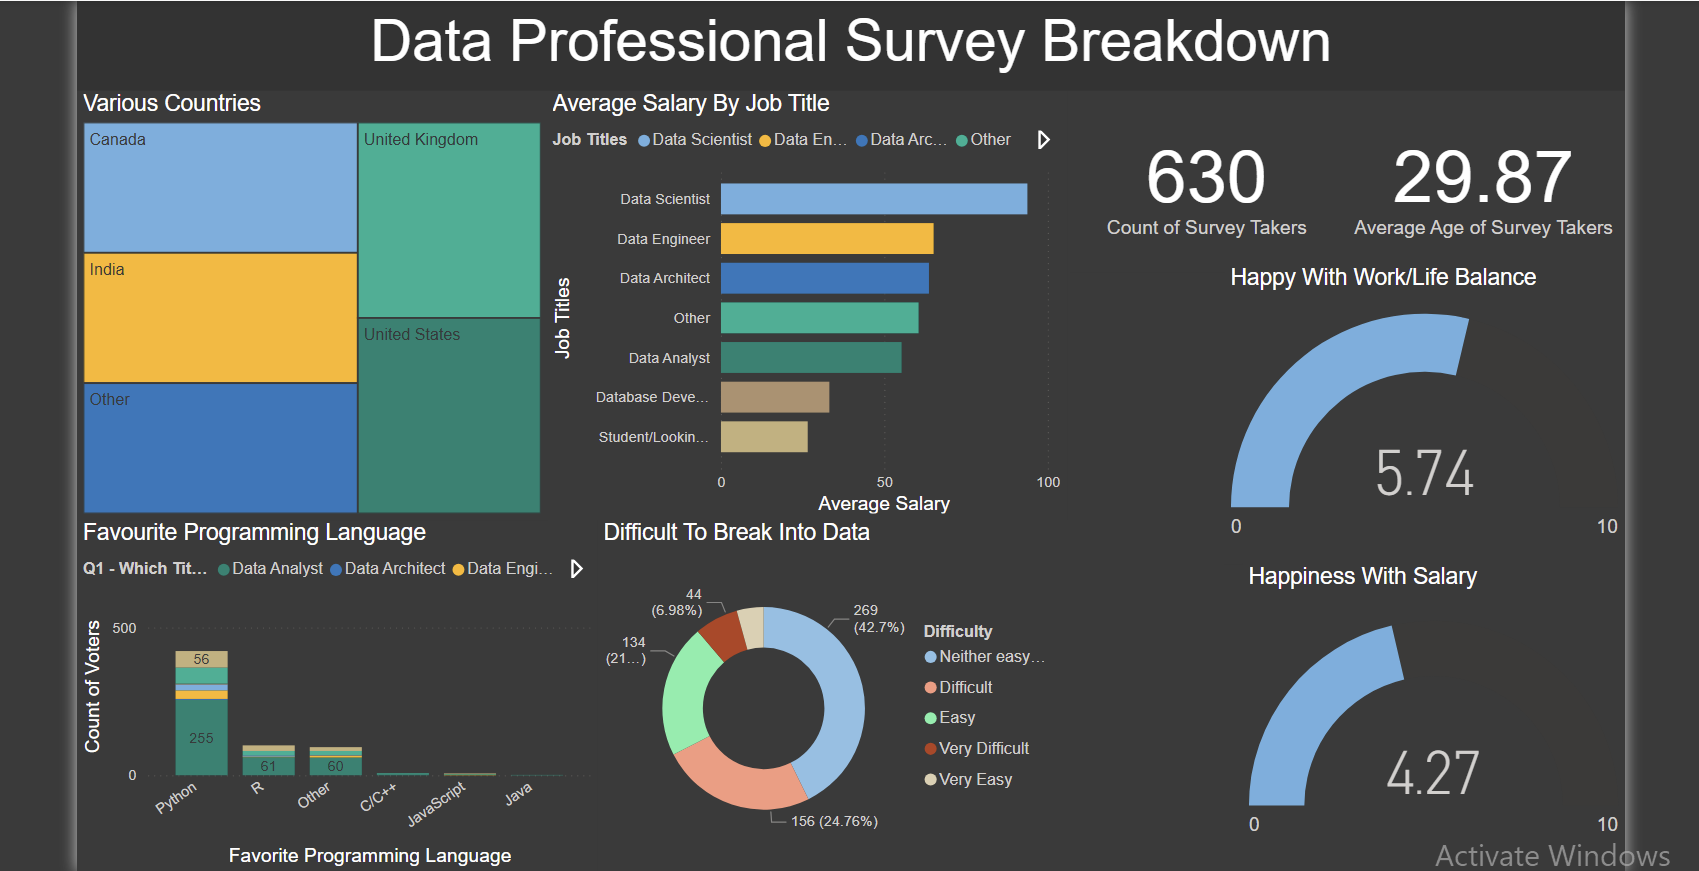

The page's visual inventory and layout, read from the dashboard file:
{"tool":"powerbi","page":{"name":"Page 1","canvas":[1280,720],"ordinal":0},"visuals":[{"type":"textbox","box":[0,0,1280,74.3],"z":0},{"type":"card","fields":{"Values":["Count(Data Professional Survey.Unique ID)"]},"box":[820.7,74.9,226.3,149.8],"z":1},{"type":"card","fields":{"Values":["Avg(Data Professional Survey.Q10 - Current Age)"]},"box":[1047,74.9,232.5,149.8],"z":2},{"type":"barChart","title":"Average Salary By Job Title","fields":{"Category":["Data Professional Survey.Q1 - Which Title Best Fits your Current Role?.1.1"],"Y":["Avg(Data Professional Survey.Average Salary)"],"Series":["Data Professional Survey.Q1 - Which Title Best Fits your Current Role?.1.1"]},"box":[388.7,74.6,430.6,354.5],"z":3},{"type":"columnChart","title":"Favourite Programming Language","fields":{"Category":["Data Professional Survey.Q5 - Favorite Programming Language.1"],"Y":["CountNonNull(Data Professional Survey.Unique ID)"],"Series":["Data Professional Survey.Q1 - Which Title Best Fits your Current Role?.1.1"]},"box":[0,428.7,430.4,290.8],"z":4},{"type":"treemap","title":"Various Countries","fields":{"Group":["Data Professional Survey.Q11 - Which Country do you live in?.1"],"Values":["Count(Data Professional Survey.Q11 - Which Country do you live in?.1)"]},"box":[0,74.6,388.7,354.5],"z":5},{"type":"gauge","title":"Happy With Work/Life Balance","fields":{"Y":["Avg(Data Professional Survey.Q6 - How Happy are you in your Current Position with the following? (Work/Life Balance))"],"MinValue":["Min(Data Professional Survey.Q6 - How Happy are you in your Current Position with the following? (Work/Life Balance))1"],"MaxValue":["Max(Data Professional Survey.Q6 - How Happy are you in your Current Position with the following? (Work/Life Balance))2"]},"box":[948.8,217.7,330.7,247.6],"z":6},{"type":"gauge","title":"Happiness With Salary","fields":{"Y":["Avg(Data Professional Survey.Q6 - How Happy are you in your Current Position with the following? (Salary))"],"MinValue":["Min(Data Professional Survey.Q6 - How Happy are you in your Current Position with the following? (Salary))"],"MaxValue":["Max(Data Professional Survey.Q6 - How Happy are you in your Current Position with the following? (Salary))"]},"box":[963.7,465.3,315.7,254.2],"z":7},{"type":"donutChart","title":"Difficult To Break Into Data","fields":{"Category":["Data Professional Survey.Q7 - How difficult was it for you to break into Data?"],"Y":["CountNonNull(Data Professional Survey.Q7 - How difficult was it for you to break into Data?)"]},"box":[430.6,429.1,388.7,290.7],"z":8}]}

Visuals, with their boxes on the page's 1280x720 design canvas (x1, y1, x2, y2). These are canvas units, not pixel positions in the 1699x871 screenshot, which may show the page scaled, cropped or inside an application window:
textbox: (0,0,1280,74)
card - Count(Data Professional Survey.Unique ID): (821,75,1047,225)
card - Avg(Data Professional Survey.Q10 - Current Age): (1047,75,1280,225)
"Average Salary By Job Title" barChart: (389,75,819,429)
"Favourite Programming Language" columnChart: (0,429,430,720)
"Various Countries" treemap: (0,75,389,429)
"Happy With Work/Life Balance" gauge: (949,218,1280,465)
"Happiness With Salary" gauge: (964,465,1279,720)
"Difficult To Break Into Data" donutChart: (431,429,819,720)
